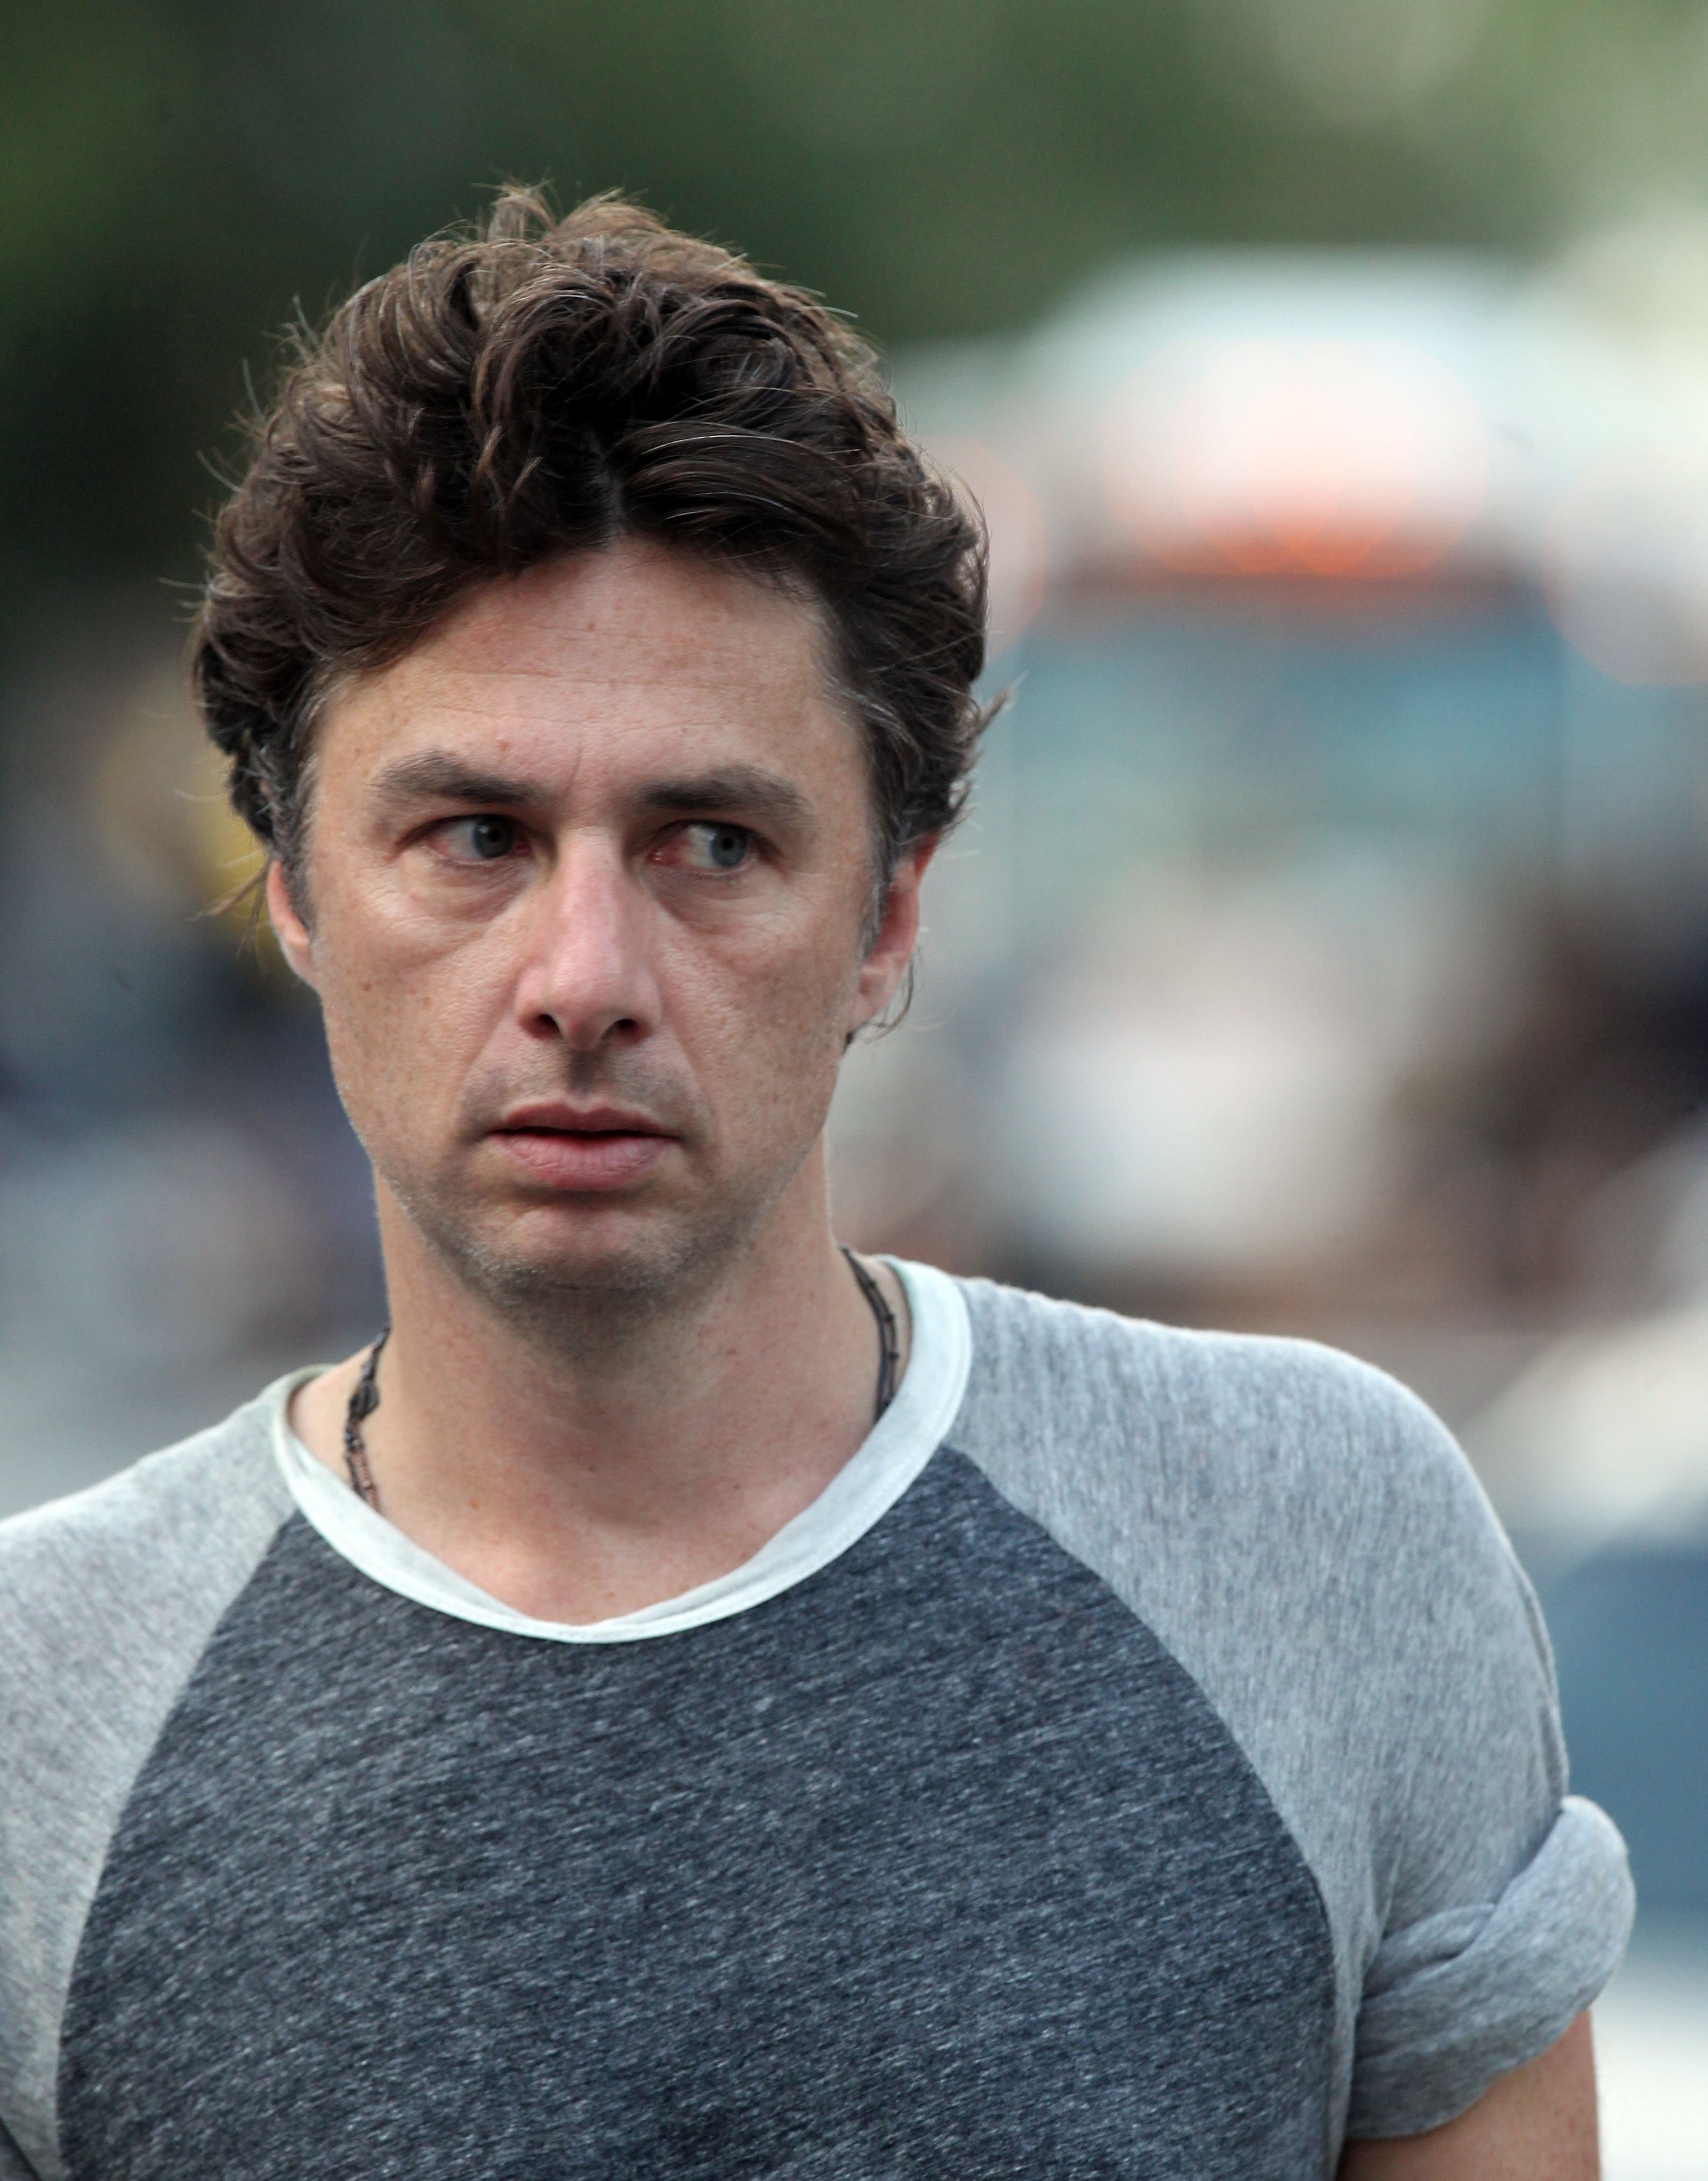sad: (257, 584, 883, 1310)
